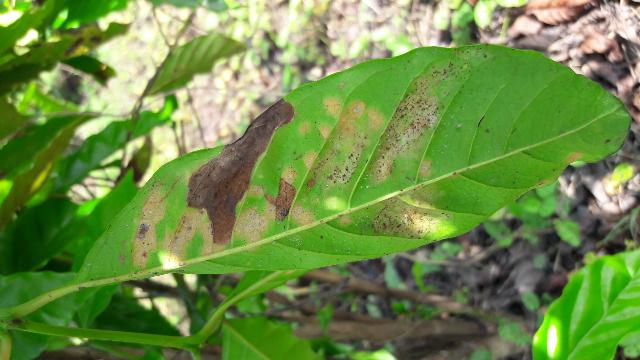red_spider_mite: (72, 47, 626, 295)
